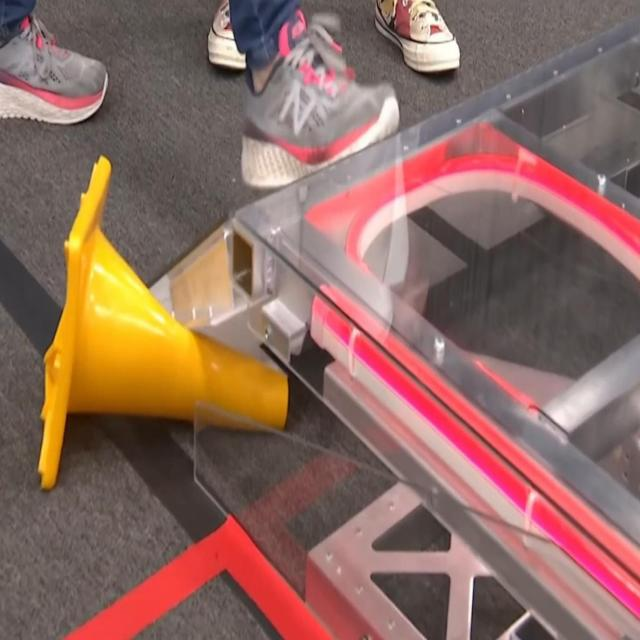frc_cone: (35, 155, 292, 496)
